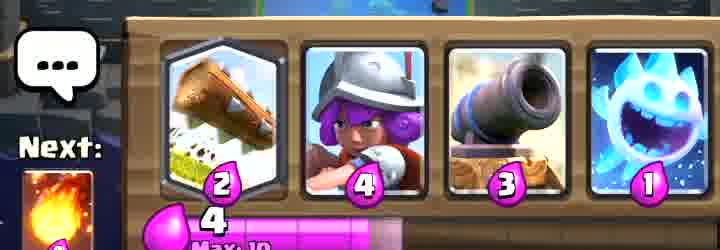fireball: (25, 172, 93, 250)
ice-spirit: (595, 46, 710, 199)
log: (167, 43, 281, 190)
musketeer: (307, 47, 426, 205)
